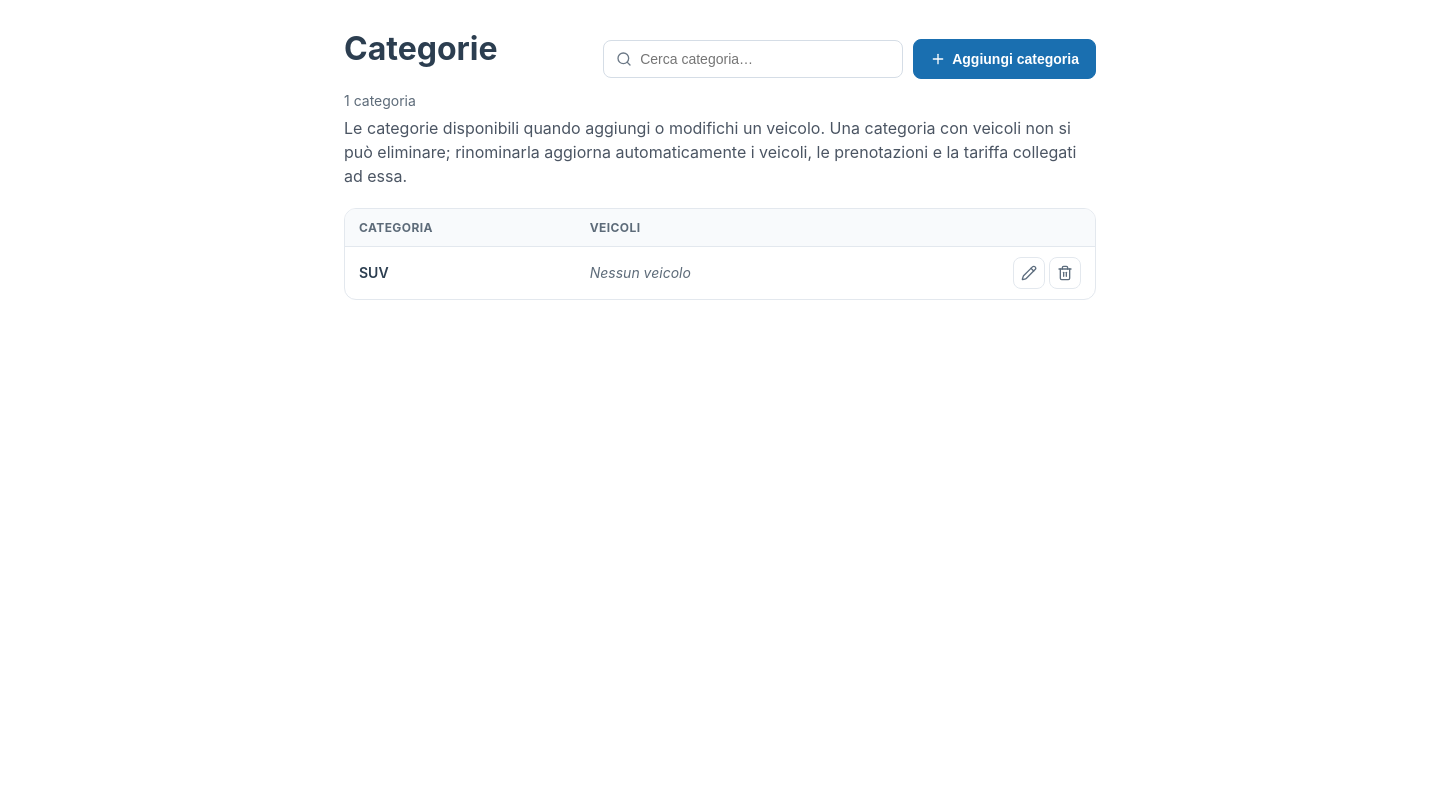
Test: rinominare una categoria con tariffa e protezioni dice che le sposta
Expected: the text "SUV" is shown, [345,246,576,299]
Click the button named "Rinomina".
click(1029, 273)  # box [1013,257,1045,289]
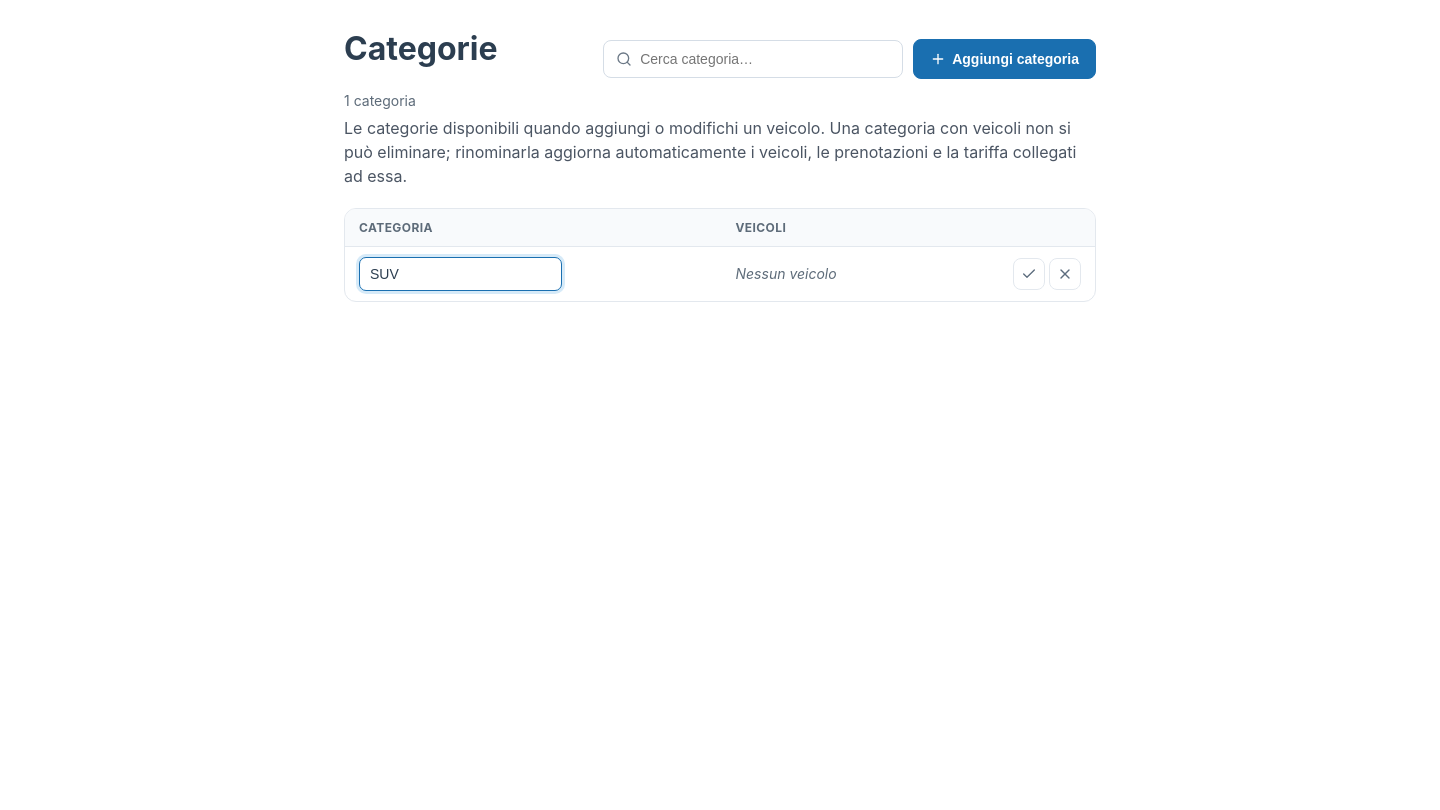
Replace the text in the field named "Nuovo nome per SUV" with "SUV Grande" at (460, 274), box [359,257,562,291]
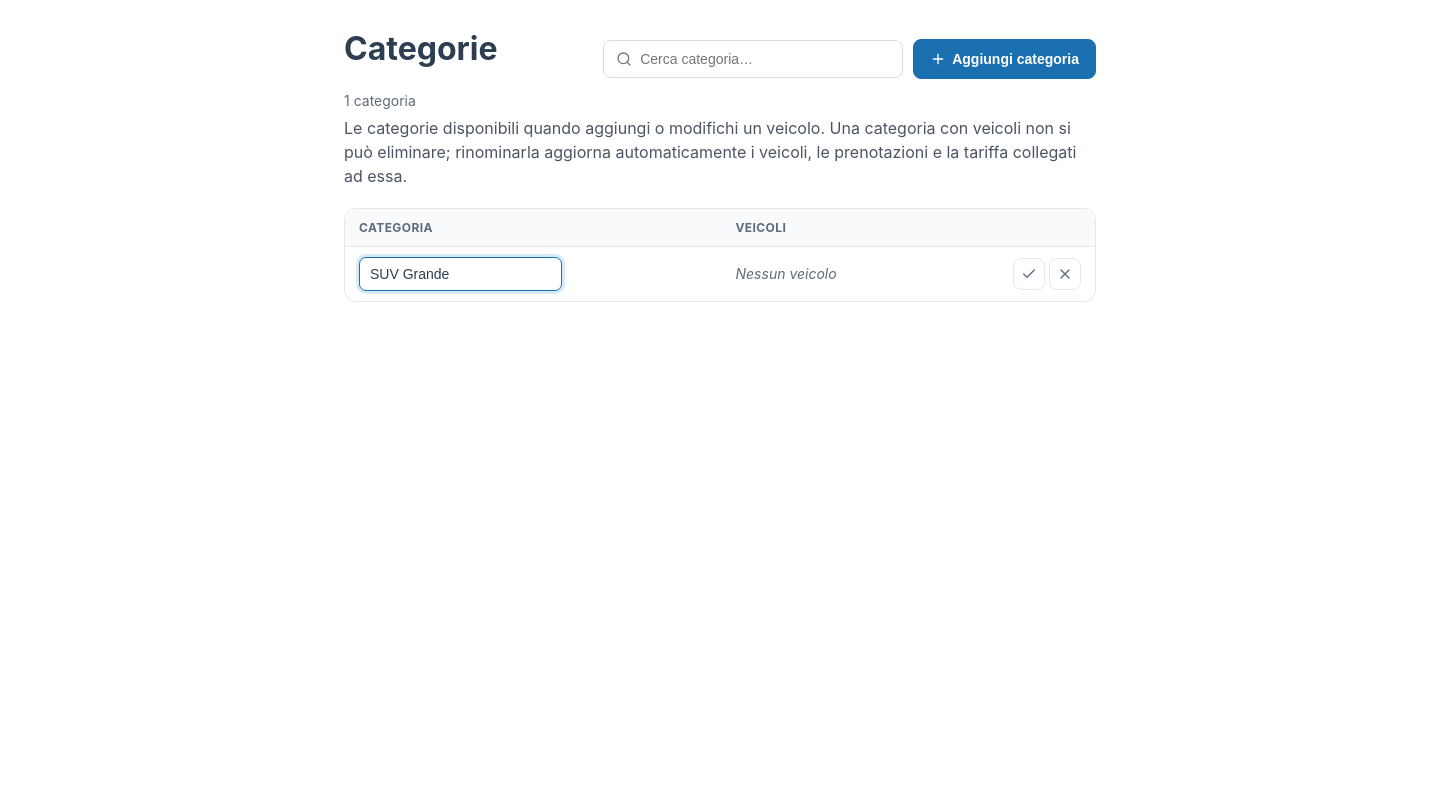
Click the button named "Salva".
click(1029, 274)  # box [1013,258,1045,290]
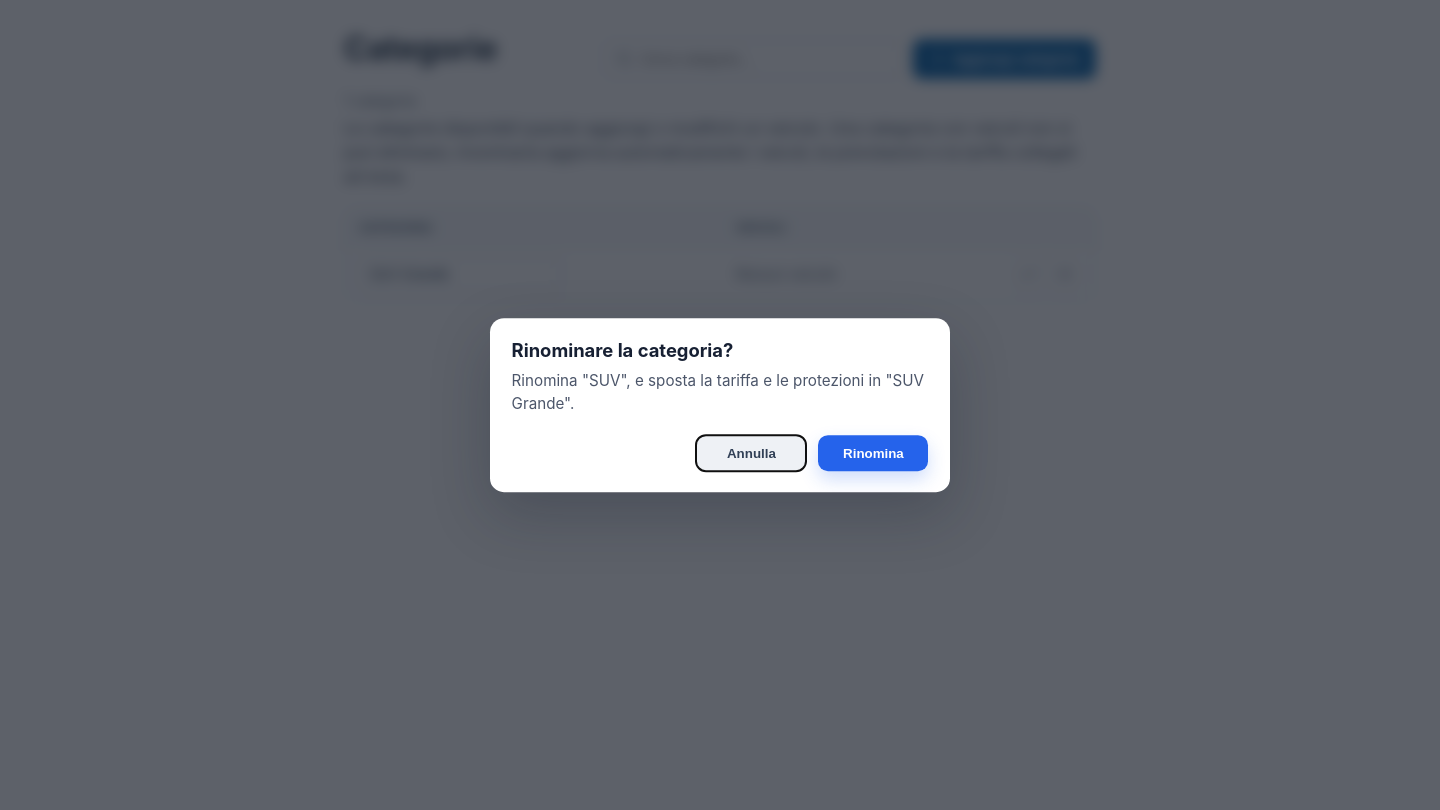
Expected: the text "e sposta la tariffa e le protezioni in \"SUV Grande\"" is shown, [512,372,924,413]
